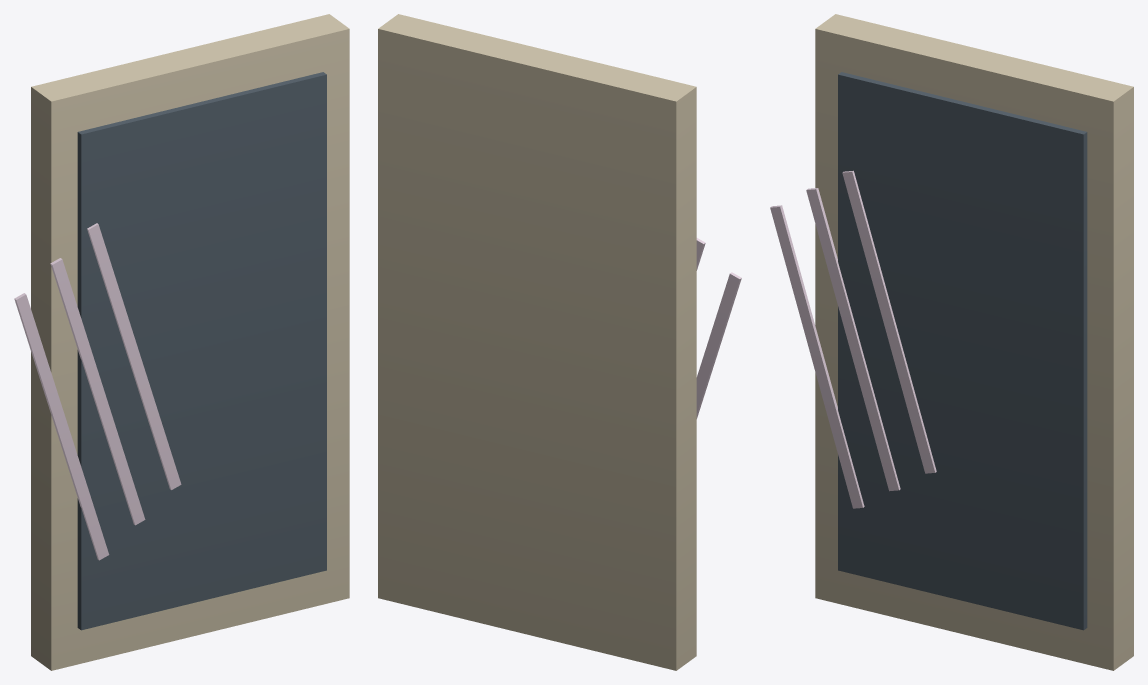
Rendered from tall_mirror.glb.
3 views of the same model, side by side, from view 1: azimuth 30°, elevation 25°; view 2: azimuth 150°, elevation 25°; view 3: azimuth 330°, elevation 25° (orthographic).
Parts seen in each view (by area): view 1: tall_mirror; view 2: tall_mirror; view 3: tall_mirror.
Boxes of the visible parts, <box> form: tall_mirror: <box>14,14,349,670</box>; tall_mirror: <box>378,14,741,670</box>; tall_mirror: <box>770,14,1133,670</box>.
Size of the model in its own units: 1.93 by 3.1 by 0.25.
